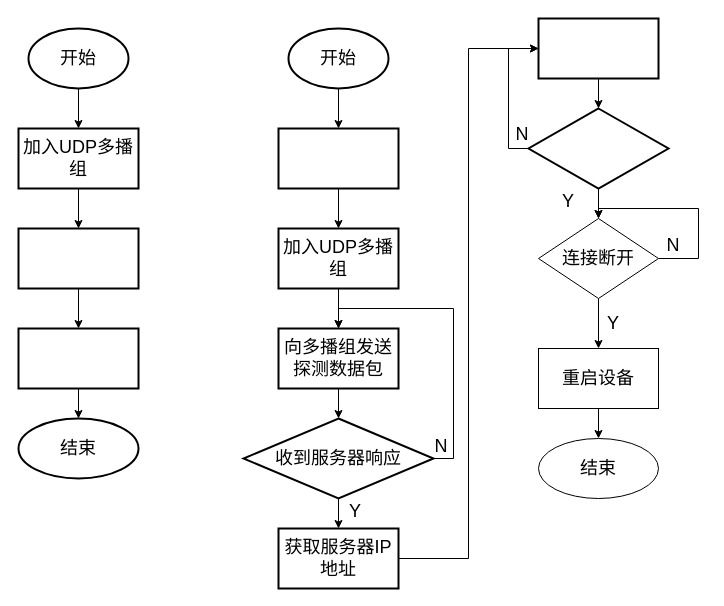
Image size: 724x606. Some labels were removed from this diagram. The shapes that lost their labels are listed below. From the top down, each one's centre as x and y in pixels, then its label:
At [598,48]: "请求与服务器建立TCP连接".
At [338,158]: "连接到wifi".
At [598,148]: "连接成功".
At [78,258]: "创建新线程监听TCP".
At [78,358]: "创建新线程监听多播组".
